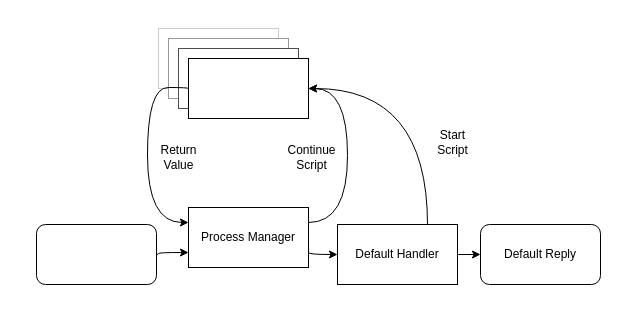
The diagram is 634 pixels wide and 314 high, and some of its shapes have lost their labels. The shapes that lost their labels are listed below. From the top down, each one's centre as x and y in pixels, then its label:
point 248,88: Execute Scripts
point 96,254: Events Received
